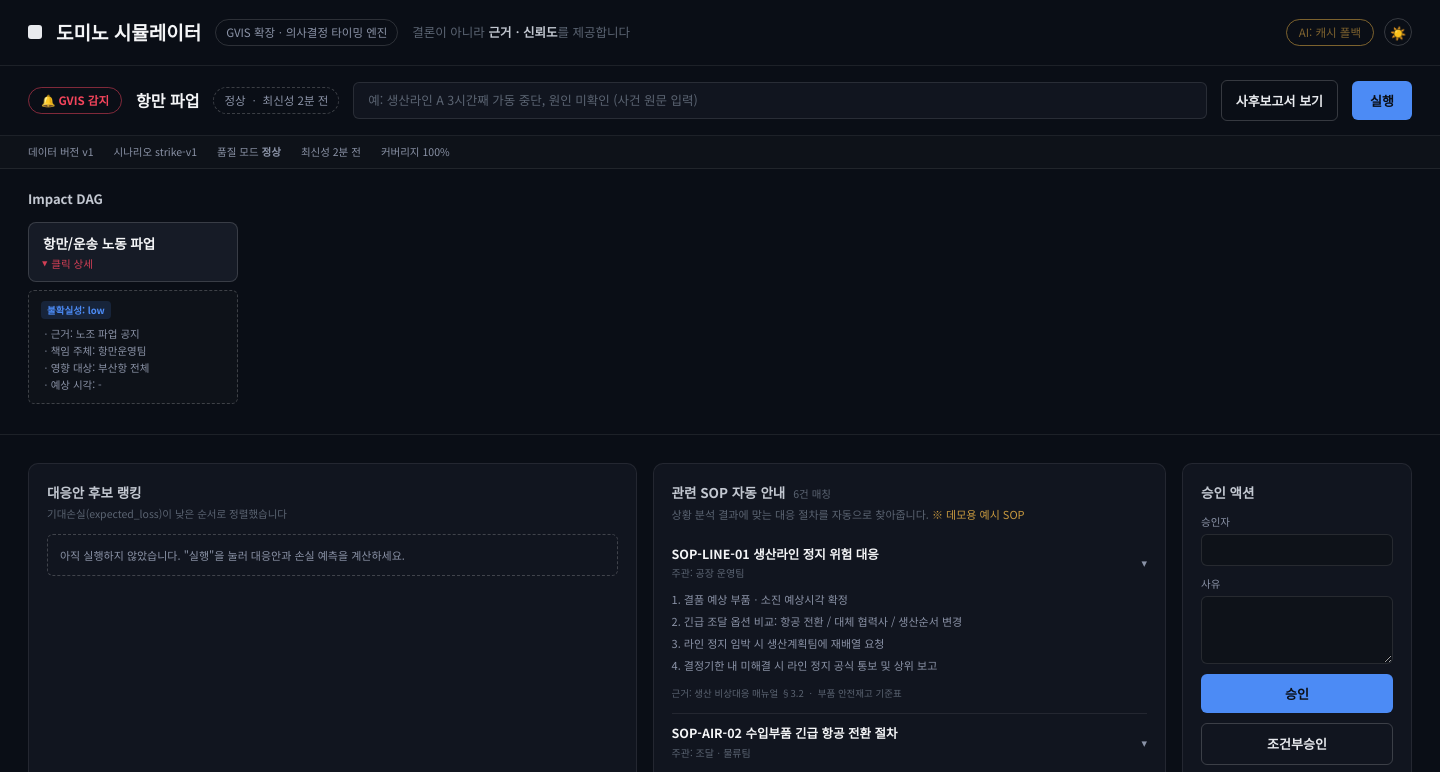
Test: IncidentDetailPage — 최초 실행 › '실행' 버튼 클릭 시 POST /simulate 후 대응안 후보·의사결정 근거를 채우고 버튼 라벨이 '다시 실행'으로 바뀐다
Expected: the text "항만 파업" is shown, [136,88,199,112]
Click the button "실행".
click(1382, 100)  # box [1352,80,1412,120]
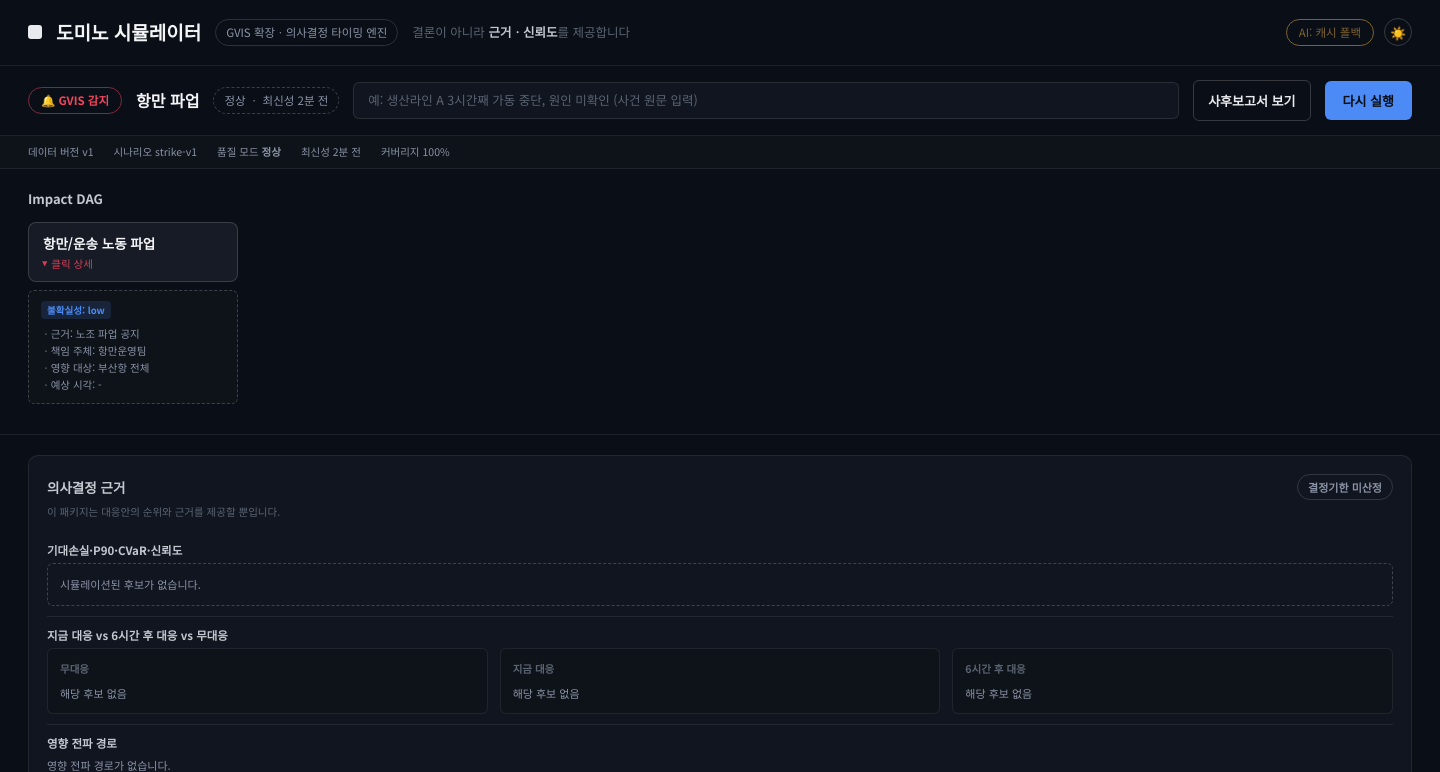
Now the text "이 패키지는 대응안의 순위와 근거를 제공할 뿐입니다." is shown, box [47,504,280,519]
Now the button "다시 실행" is shown, box [1324,80,1412,120]
